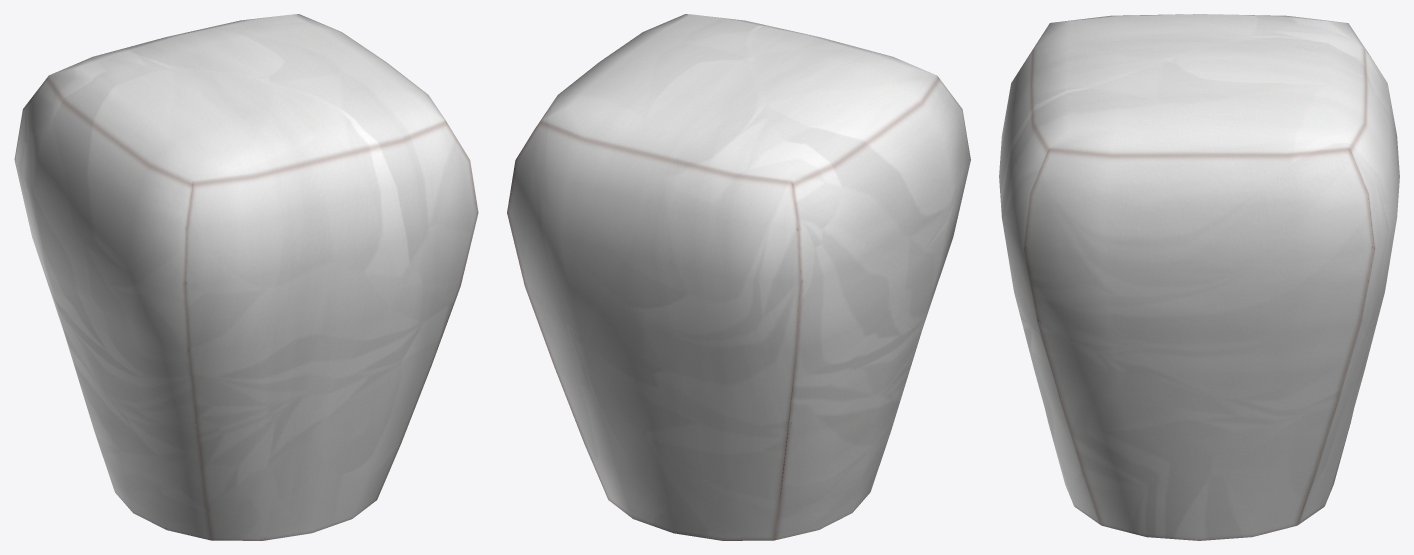
File: paperB.fbx
3 views of the same model, side by side, from view 1: azimuth 30°, elevation 25°; view 2: azimuth 150°, elevation 25°; view 3: azimuth 270°, elevation 25° (orthographic). The views are drawn at different scales.
Visible parts, largest first — view 1: paper; view 2: paper; view 3: paper.
Part boxes in pixels (x1,y1,x2,y2): paper: (14,14,478,540); paper: (507,14,970,540); paper: (999,14,1399,540).
Bounding box in the file's own units: 318 × 375 × 318.
1 material, 1 textured.
